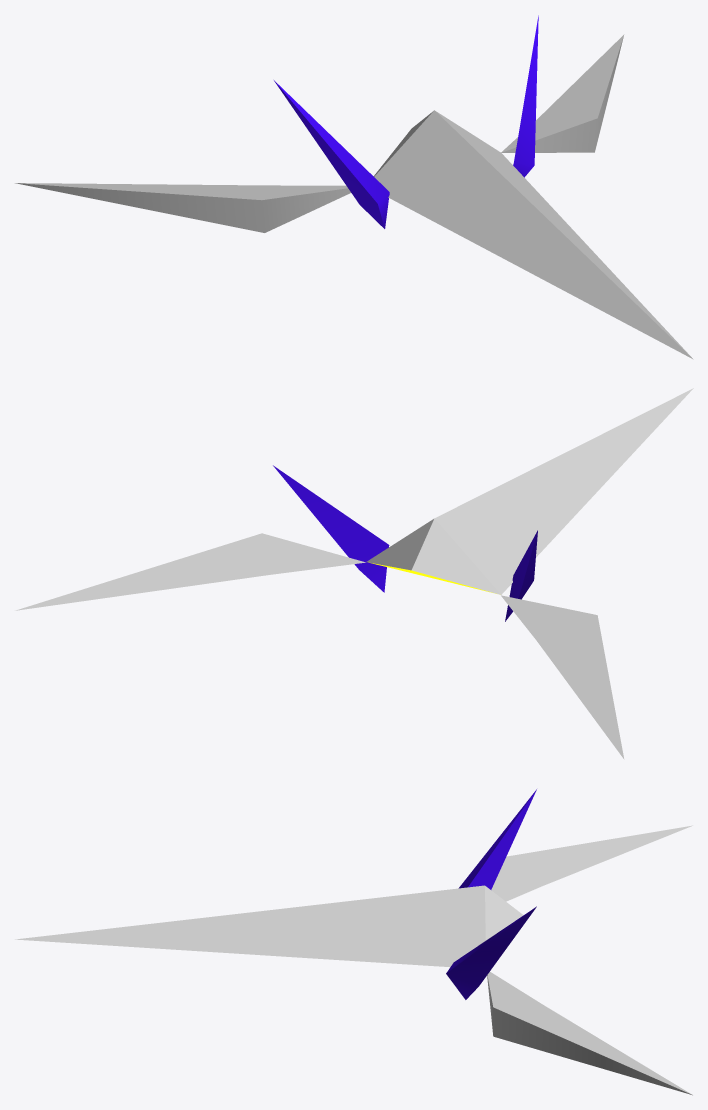
File: arwing.glb
The picture shows the model from 3 angles, top to bottom: view 1: azimuth 30°, elevation 25°; view 2: azimuth 150°, elevation 25°; view 3: azimuth 270°, elevation 25°; orthographic projection. The views are drawn at different scales.
Parts seen in each view (by area): view 1: Box001; view 2: Box001; view 3: Box001.
Boxes of the visible parts, x1,y1,x2,y2 form: Box001: (15,15,693,359); Box001: (15,388,693,759); Box001: (15,789,692,1095).
Size of the model in its own units: 677 by 148 by 720.
